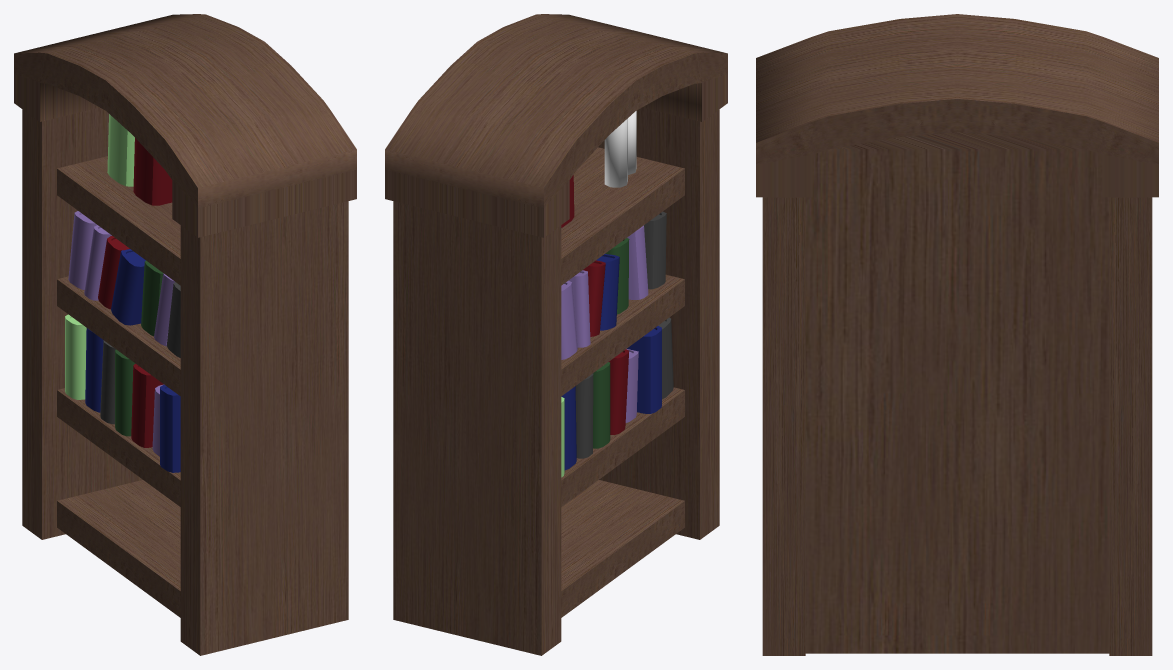
The model's file is шкаф 1.fbx.
The picture shows the model from 3 angles, left to right: view 1: azimuth 30°, elevation 25°; view 2: azimuth 150°, elevation 25°; view 3: azimuth 270°, elevation 25°; orthographic projection. The views are drawn at different scales.
Visible parts, largest first — view 1: Cube.025; view 2: Cube.025; view 3: Cube.025.
Boxes of the visible parts, x1,y1,x2,y2 form: Cube.025: [14, 14, 356, 655]; Cube.025: [385, 14, 727, 655]; Cube.025: [756, 14, 1158, 655].
Size of the model in its own units: 340 by 1045 by 681.
8 materials, 1 textured.
